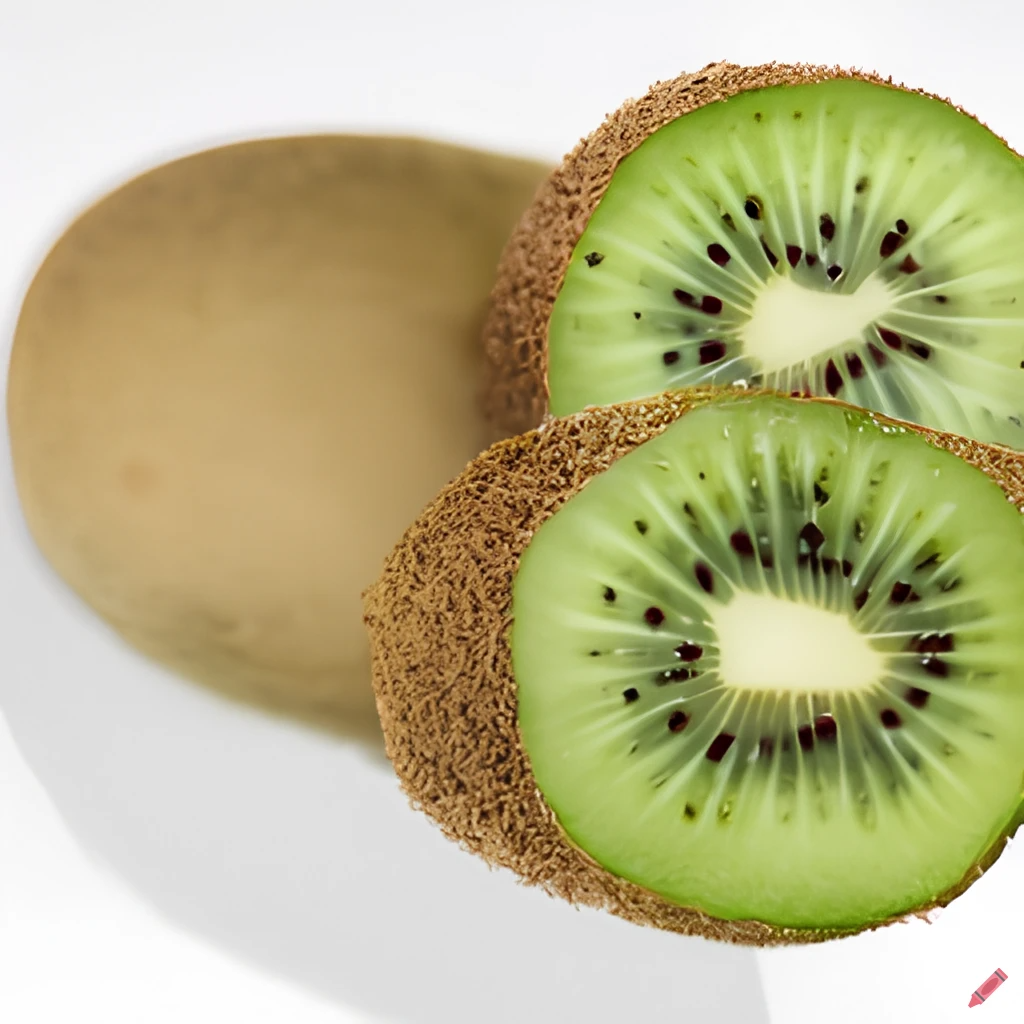Kiwi: (356, 378, 1018, 956)
